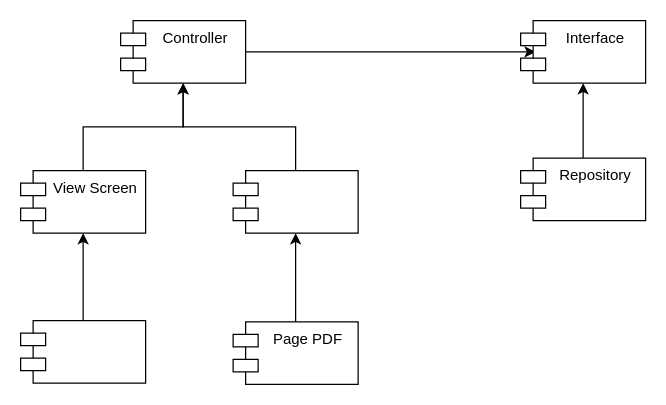
The diagram is 666 pixels wide and 405 high, and some of its shapes have lost their labels. The shapes that lost their labels are listed below. From the top down, each one's centre as x and y in pixels, then its label:
At pixel 295 201: "View Print".
At pixel 82 351: "Page Web".
